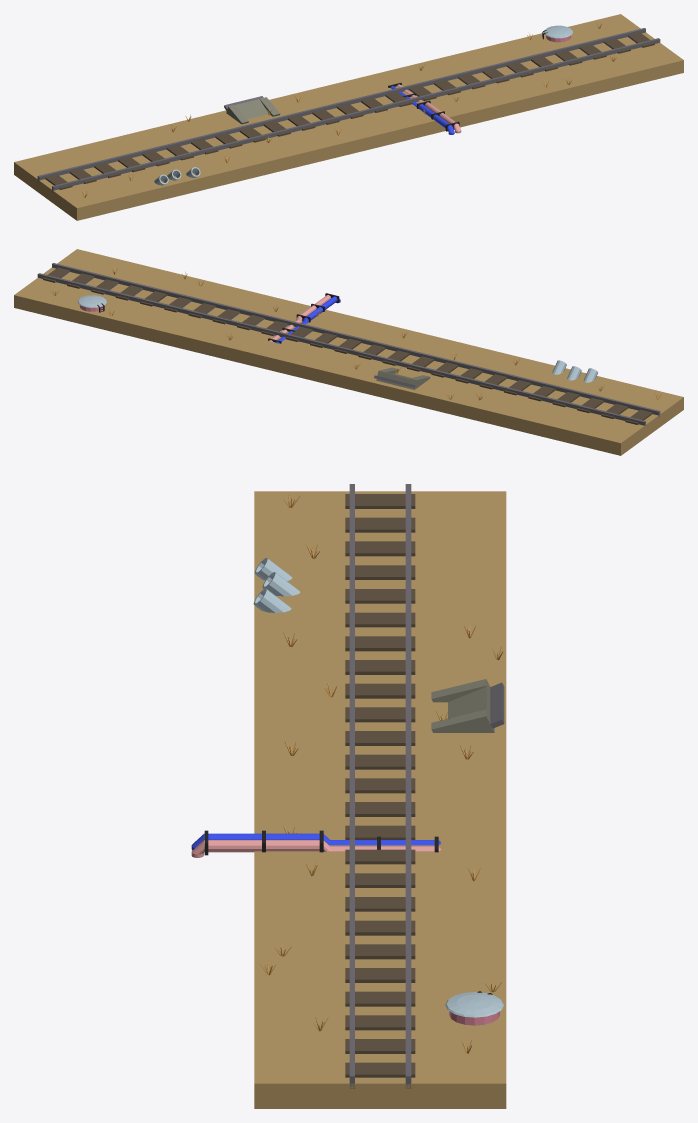
File: Meio-Fabrica-2.glb
3 views of the same model, one above another, from view 1: azimuth 30°, elevation 25°; view 2: azimuth 150°, elevation 25°; view 3: azimuth 270°, elevation 25° (orthographic). The views are drawn at different scales.
Visible parts, largest first — view 1: CHAO.013, TRILHO.009, MURO.024, CANO.008, SILO.005; view 2: CHAO.013, TRILHO.009, MURO.024, CANO.008, SILO.005; view 3: CHAO.013, TRILHO.009, MURO.024, CANO.008, SILO.005, CANO.007.
Boxes of the visible parts, x1,y1,x2,y2 form: CHAO.013: (14,14,683,220); TRILHO.009: (37,28,660,193); MURO.024: (224,96,279,124); CANO.008: (416,100,461,134); SILO.005: (542,25,572,42); CHAO.013: (14,249,683,455); TRILHO.009: (37,263,660,425); MURO.024: (374,367,430,389); CANO.008: (296,293,340,323); SILO.005: (78,295,106,312); CHAO.013: (254,491,506,1108); TRILHO.009: (345,484,415,1088); MURO.024: (431,679,504,732); CANO.008: (191,830,330,857); SILO.005: (445,991,503,1025); CANO.007: (319,836,441,852).
Size of the model in its own units: 50 by 2.9 by 11.24.
